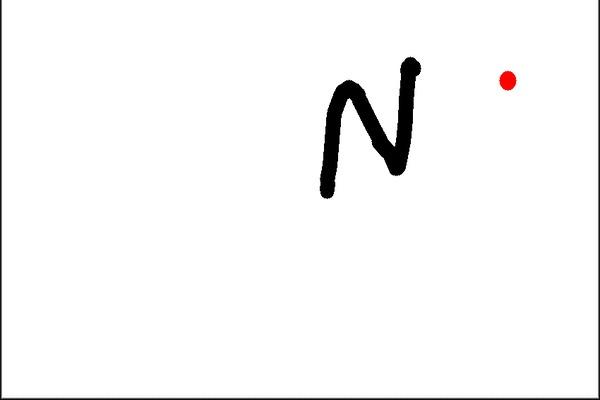N: (315, 51, 423, 201)
